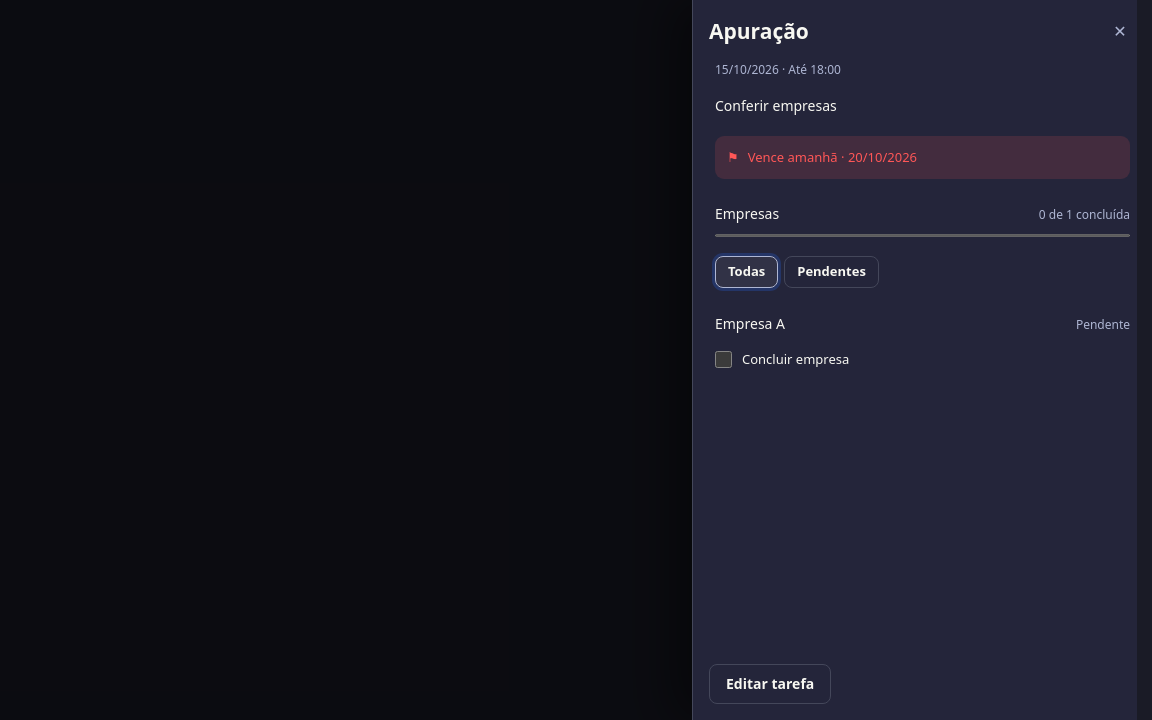
Test: falha mantém empresa pendente e apresenta mensagem humana em vez do código
Click the button "Pendentes": (832, 272) [784,256,879,288]
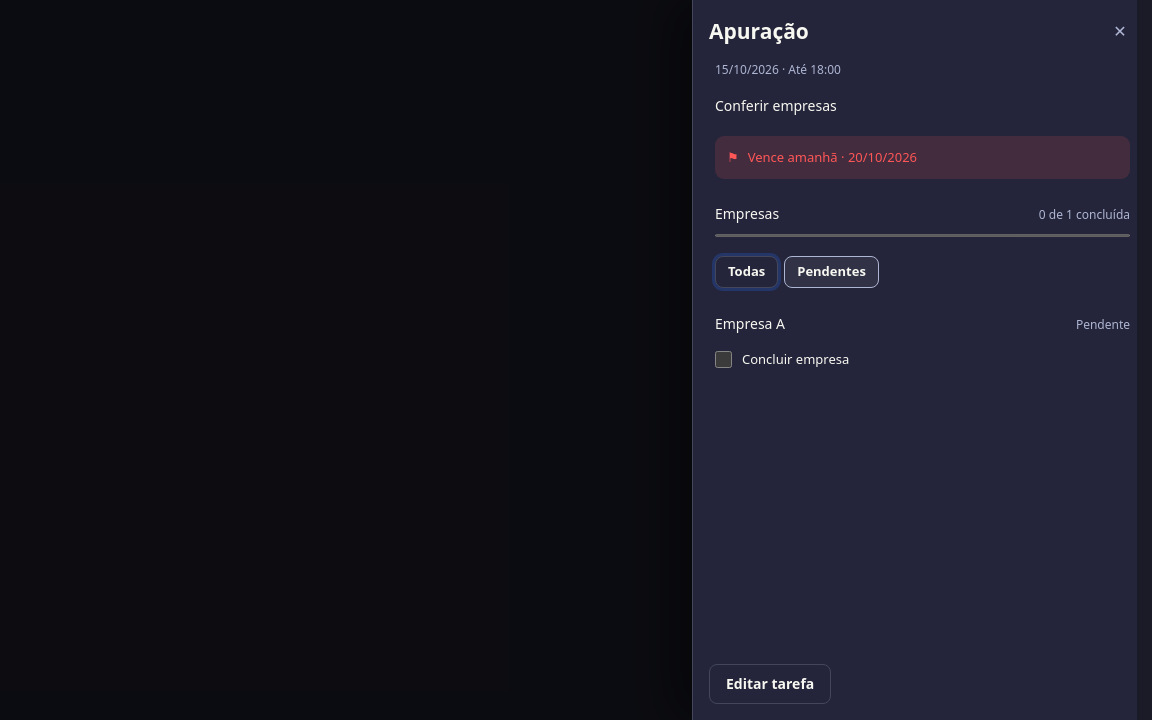
Click the checkbox labelled "Concluir empresa": (724, 359) [715,351,732,368]
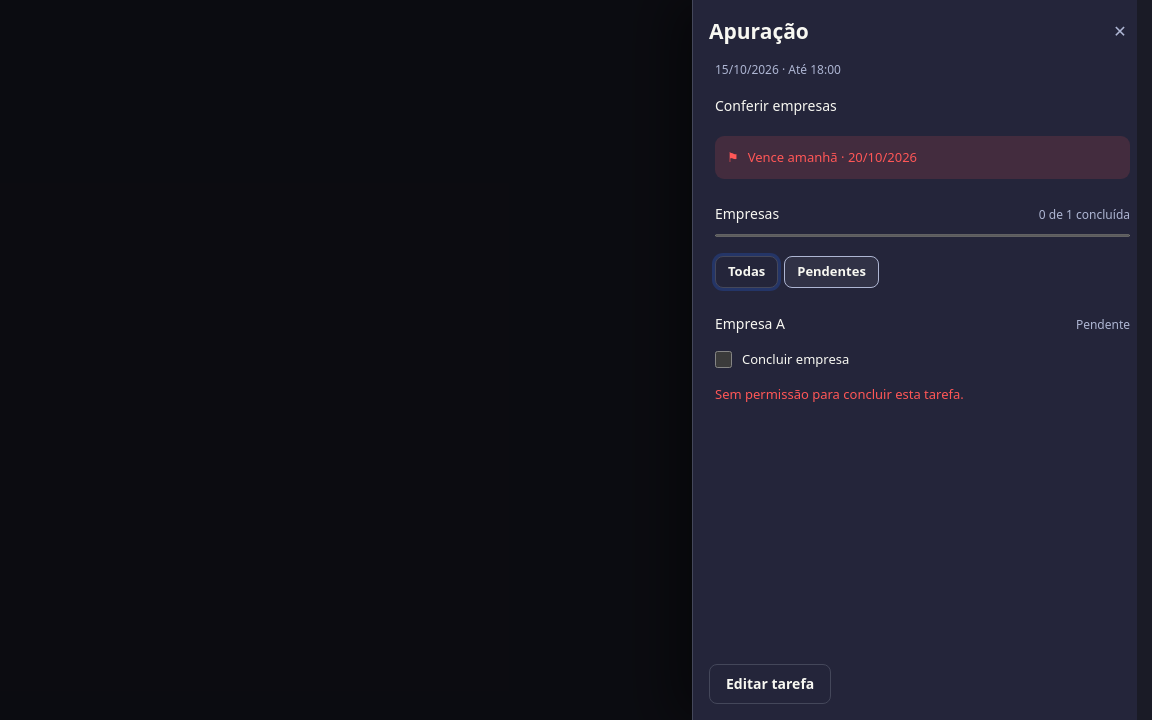
expect the message reads "Sem permissão para concluir esta tarefa.": met, box [715,385,964,403]
